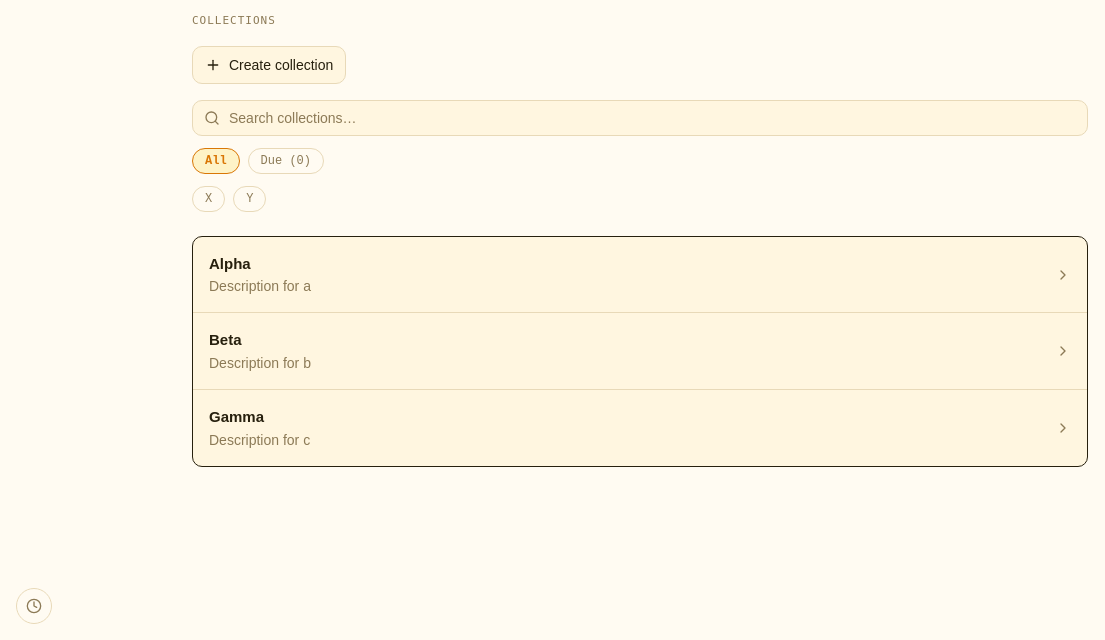
Test: Home — tag filtering › hides untagged collections when a tag is active
The width and height of the screenshot is (1105, 640).
Click the button "X" at (209,199), box [192,186,225,212]
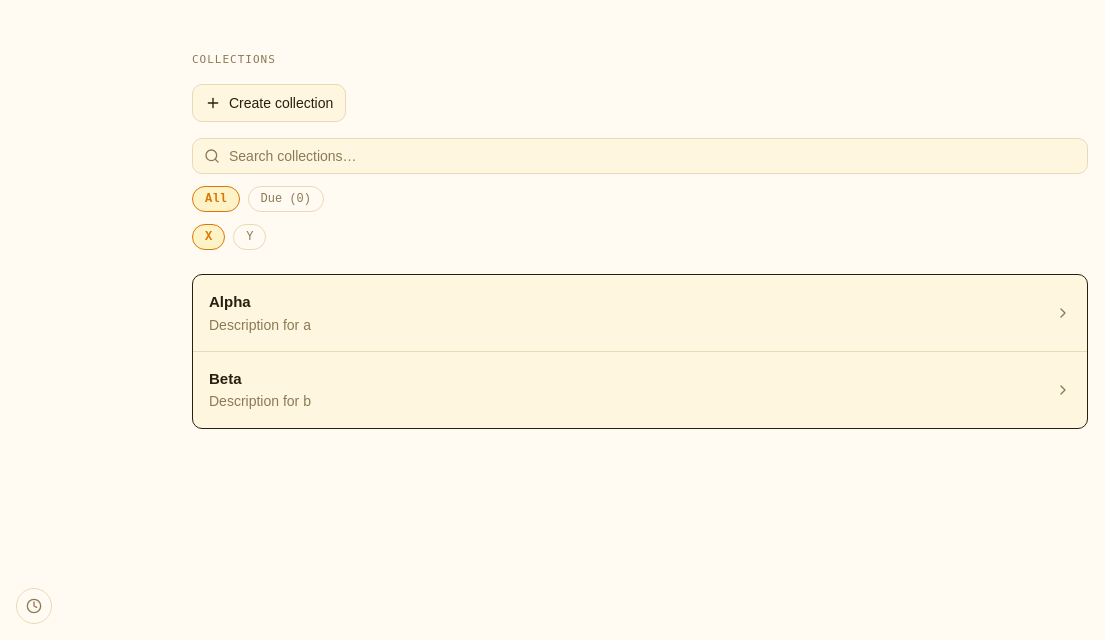
Result: the link "Gamma" is gone
